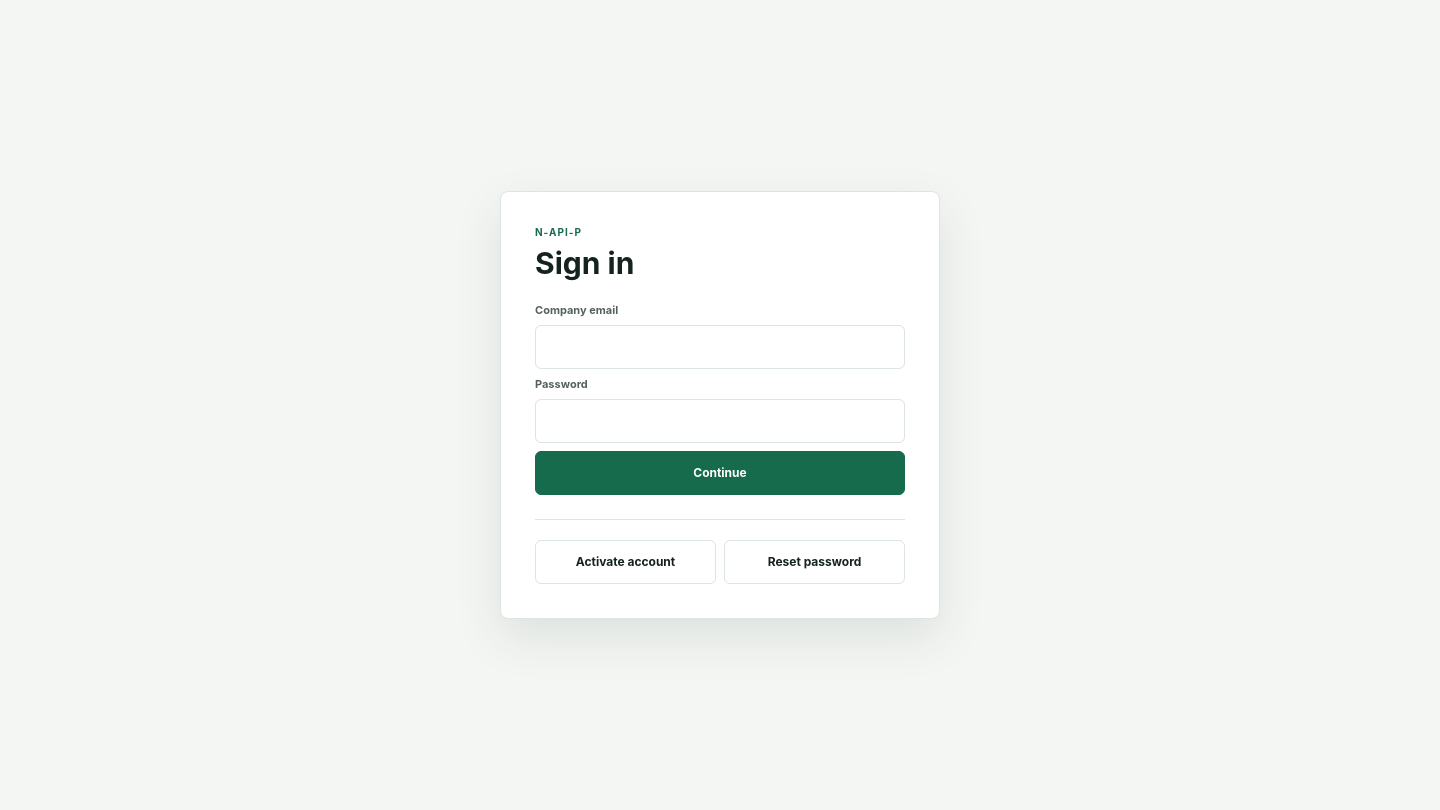
Test: shows anonymous recovery modes and reboots the session after login
Check: the heading "Sign in" is shown, box [535,245,634,281]
Click the button "Activate account".
click(626, 562)  # box [535,540,716,584]
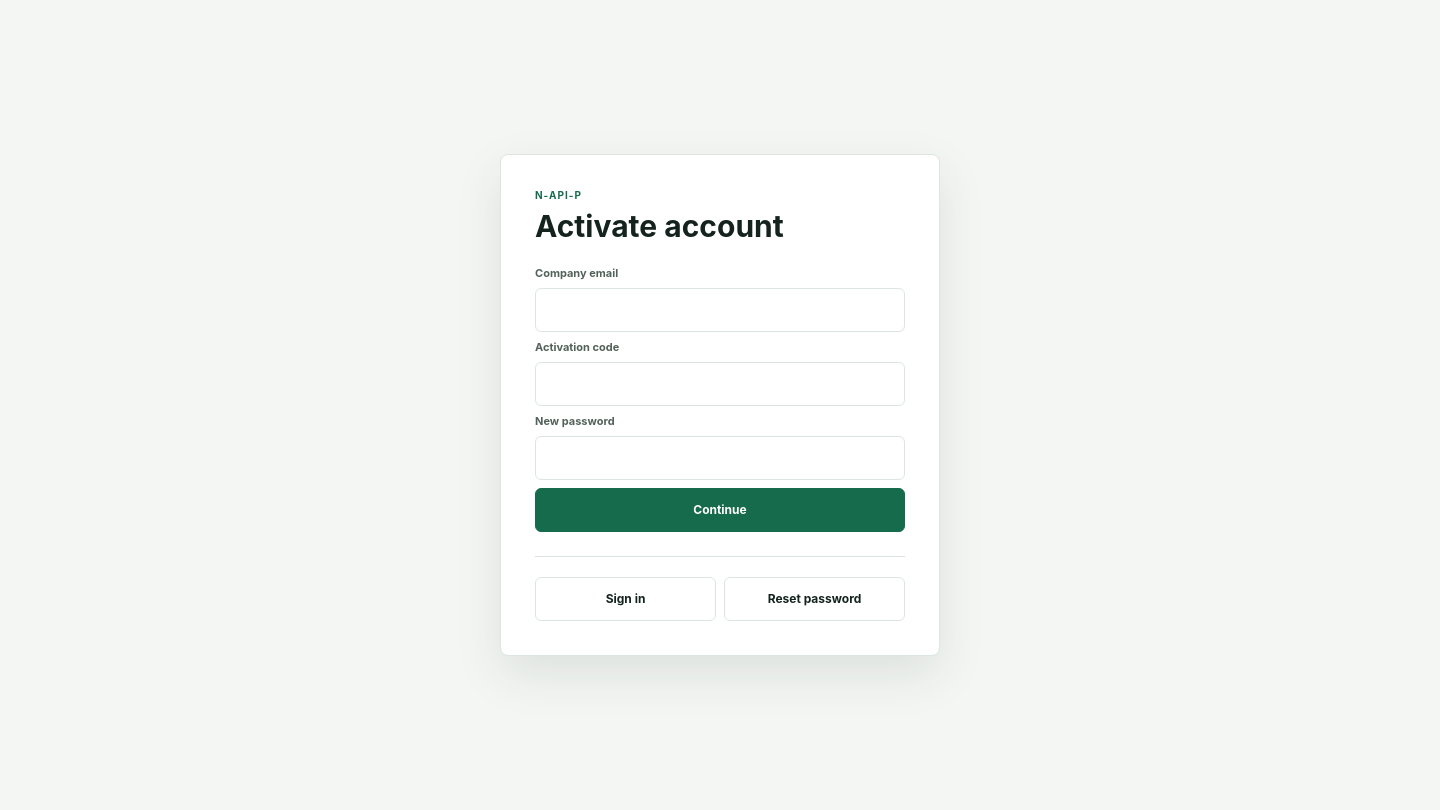
Check: the heading "Activate account" is shown, box [535,208,784,244]
Click the button "Reset password".
click(814, 599)  # box [724,577,905,621]
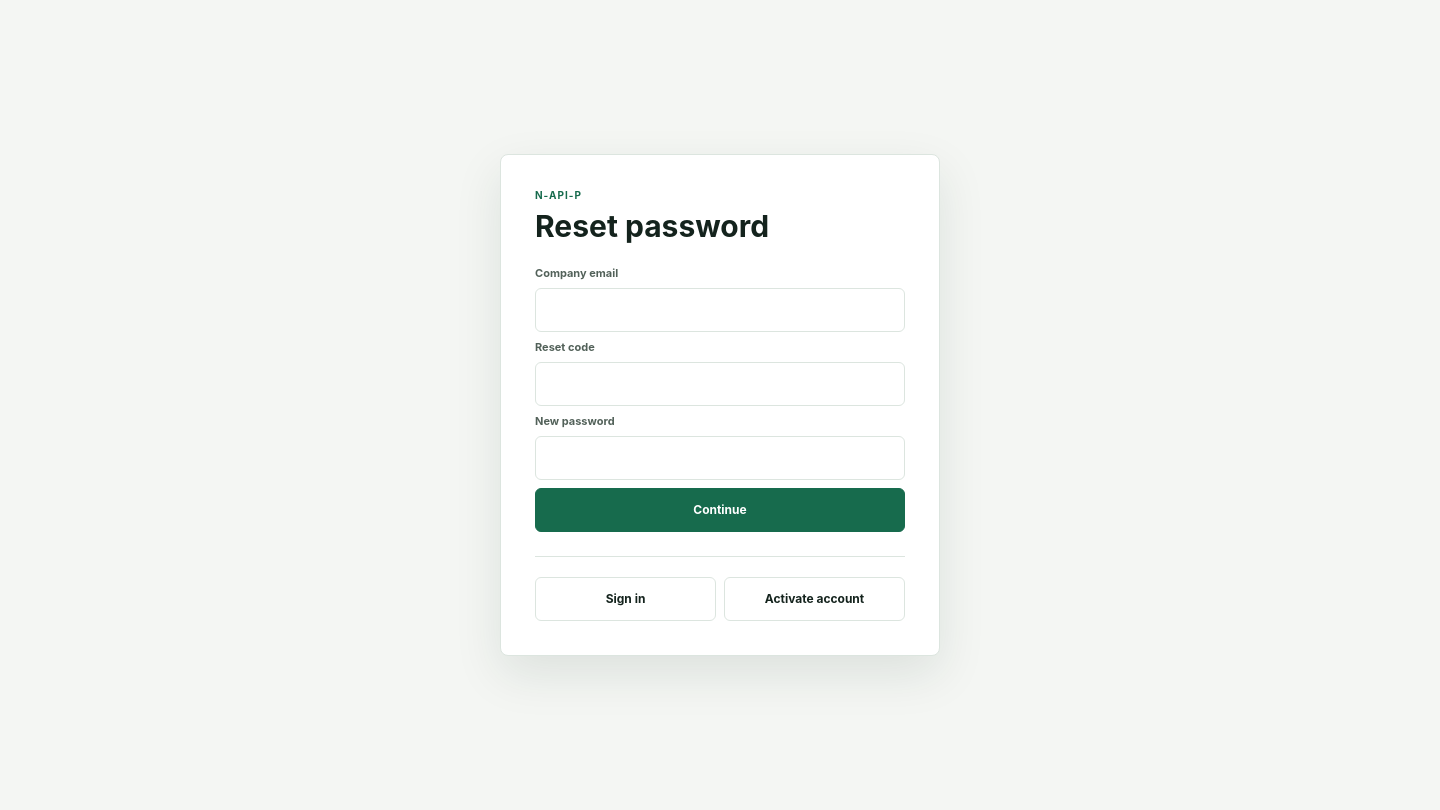
Check: the heading "Reset password" is shown, box [535,208,769,244]
Click the button "Sign in".
click(626, 599)  # box [535,577,716,621]
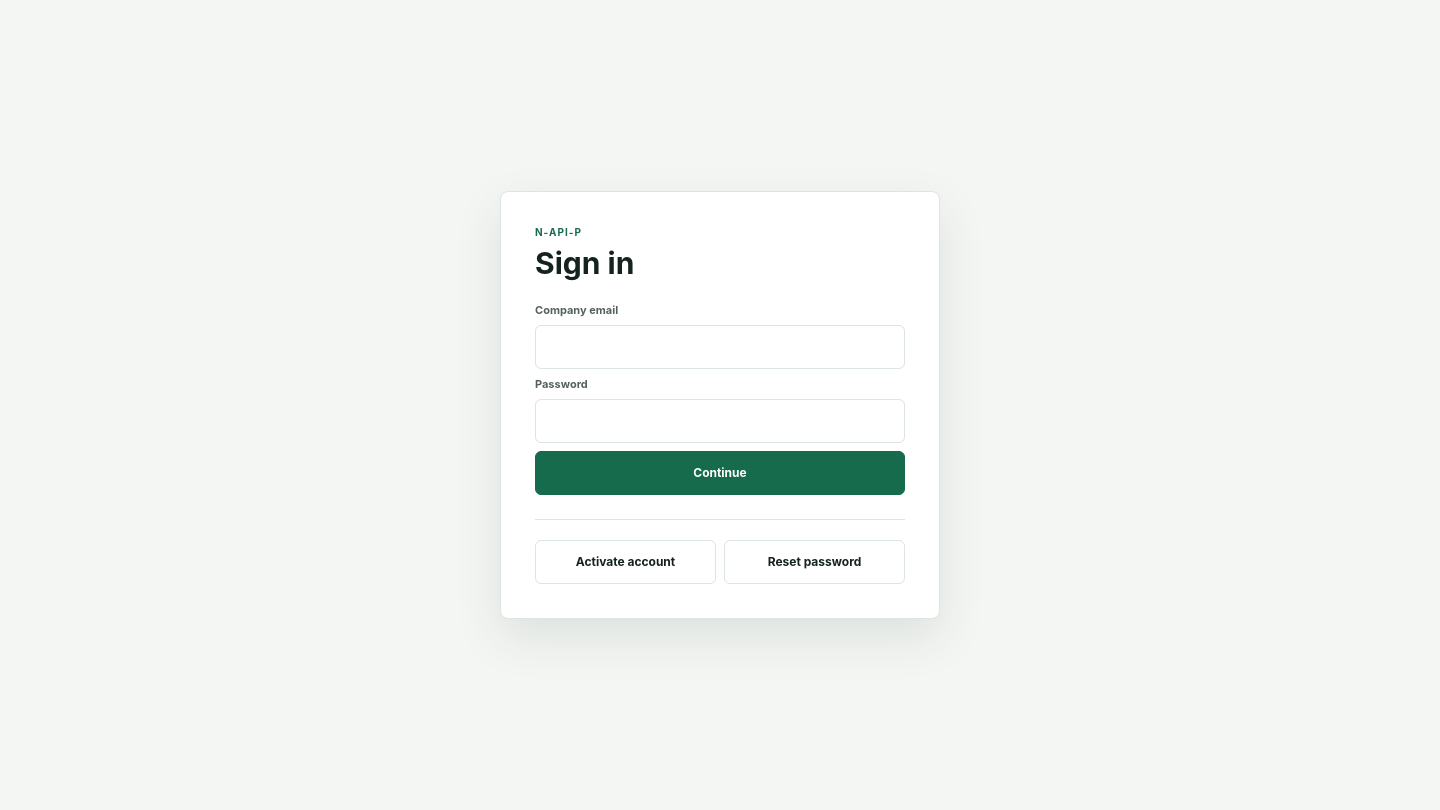
Type "employee@example.internal" into the field labelled "Company email".
click(720, 347); type("employee@example.internal")  # box [535,325,905,369]
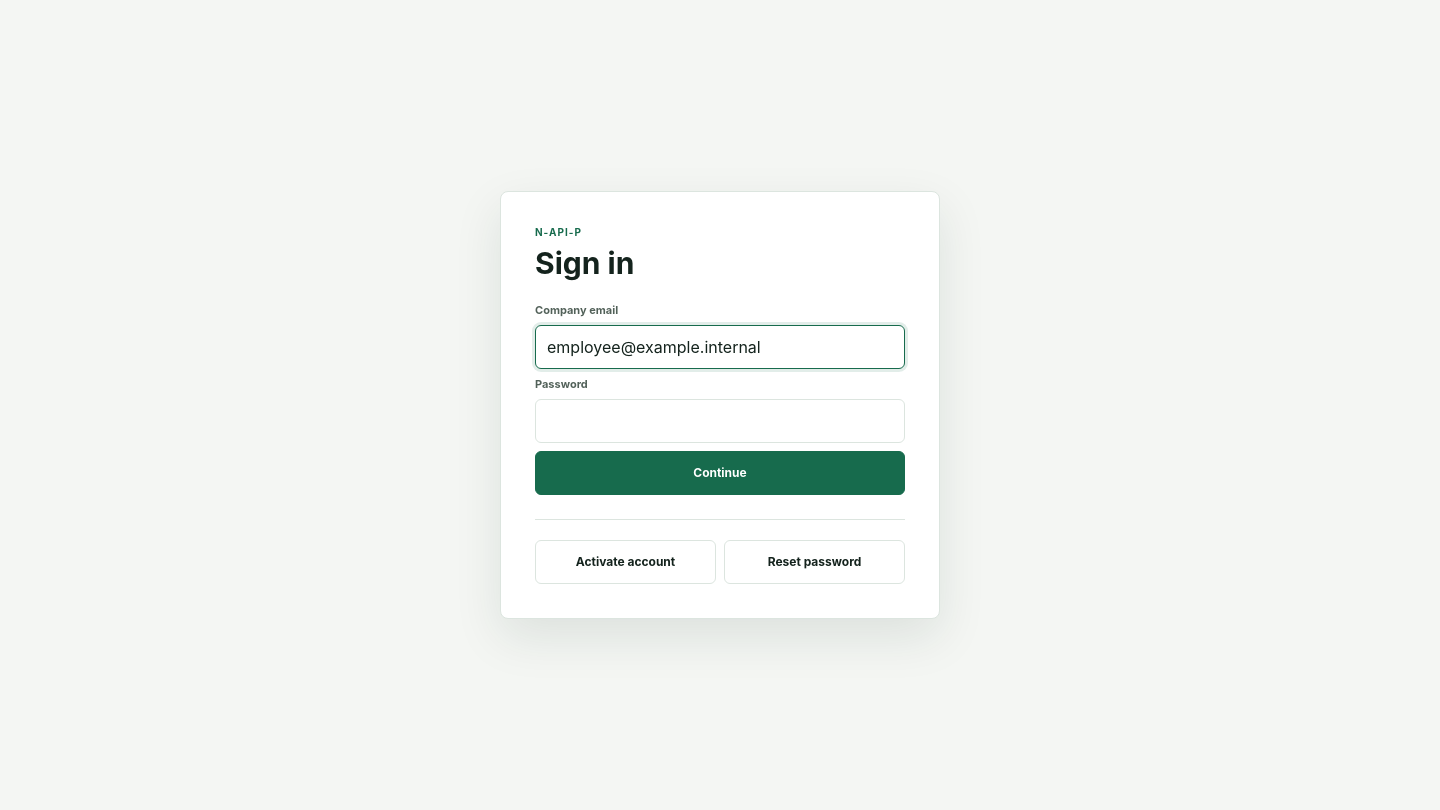
Type "synthetic-password" into the password field labelled "Password".
click(720, 421); type("synthetic-password")  # box [535,399,905,443]
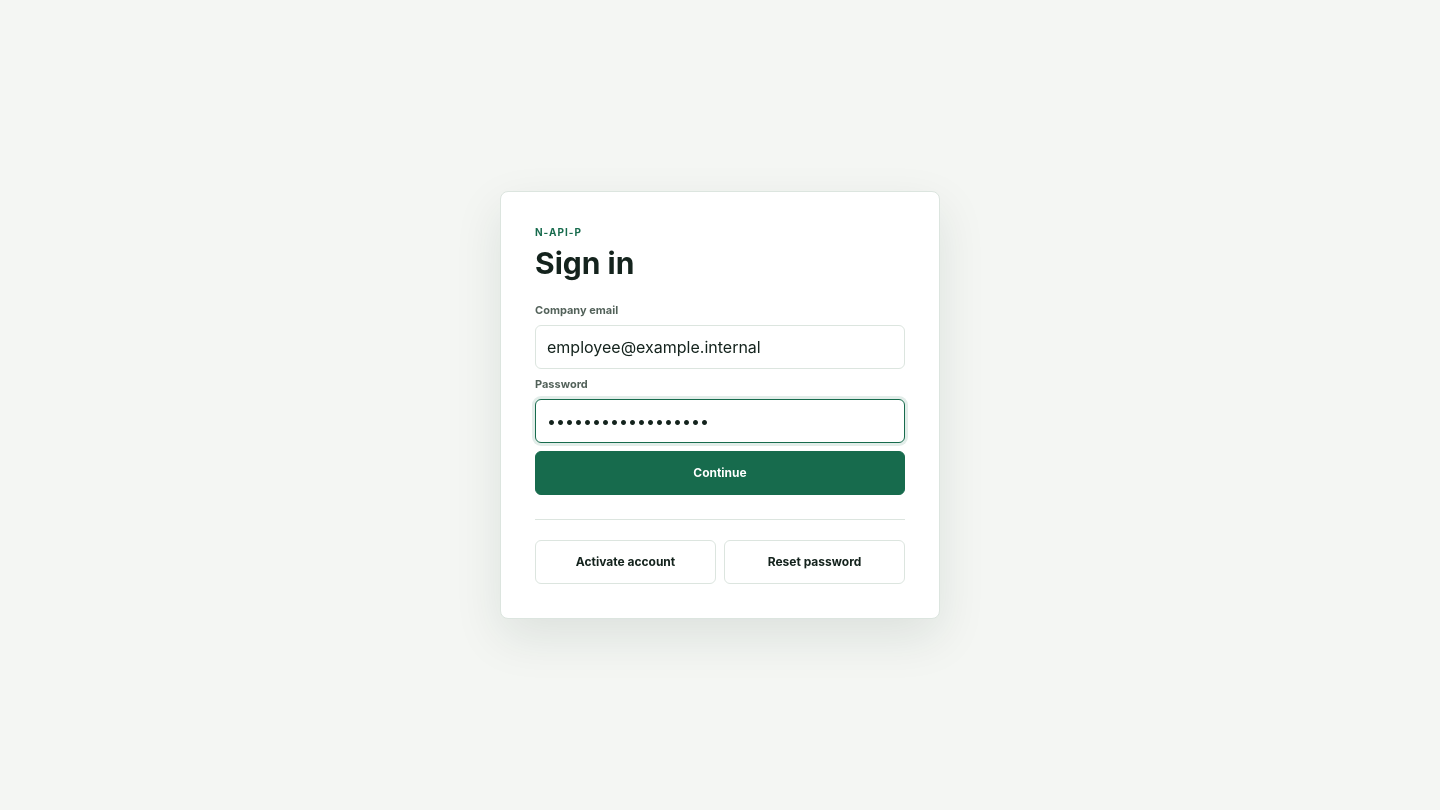
Click the button "Continue".
click(720, 473)  # box [535,451,905,495]
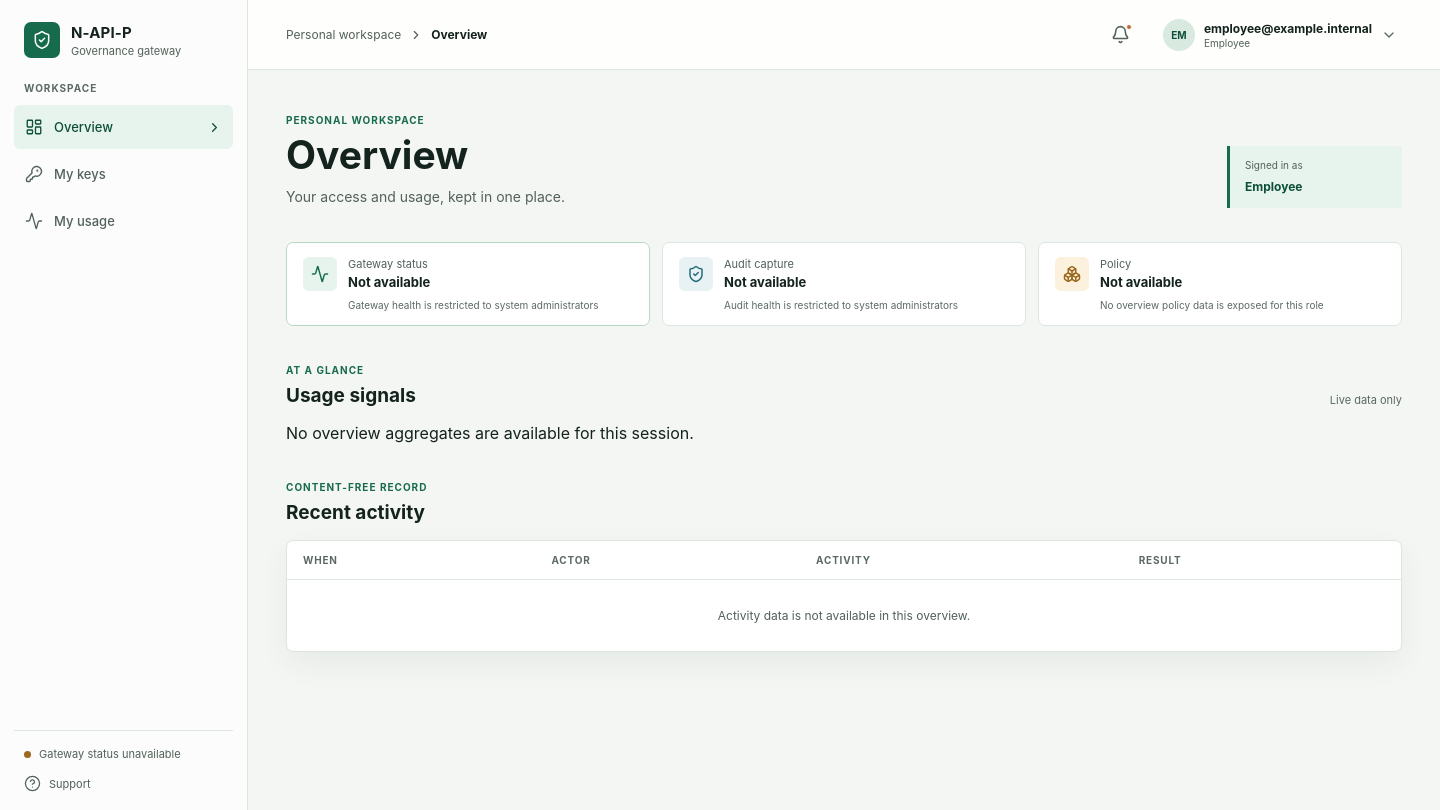
Check: the text "employee@example.internal" is shown, box [1204,20,1372,36]
